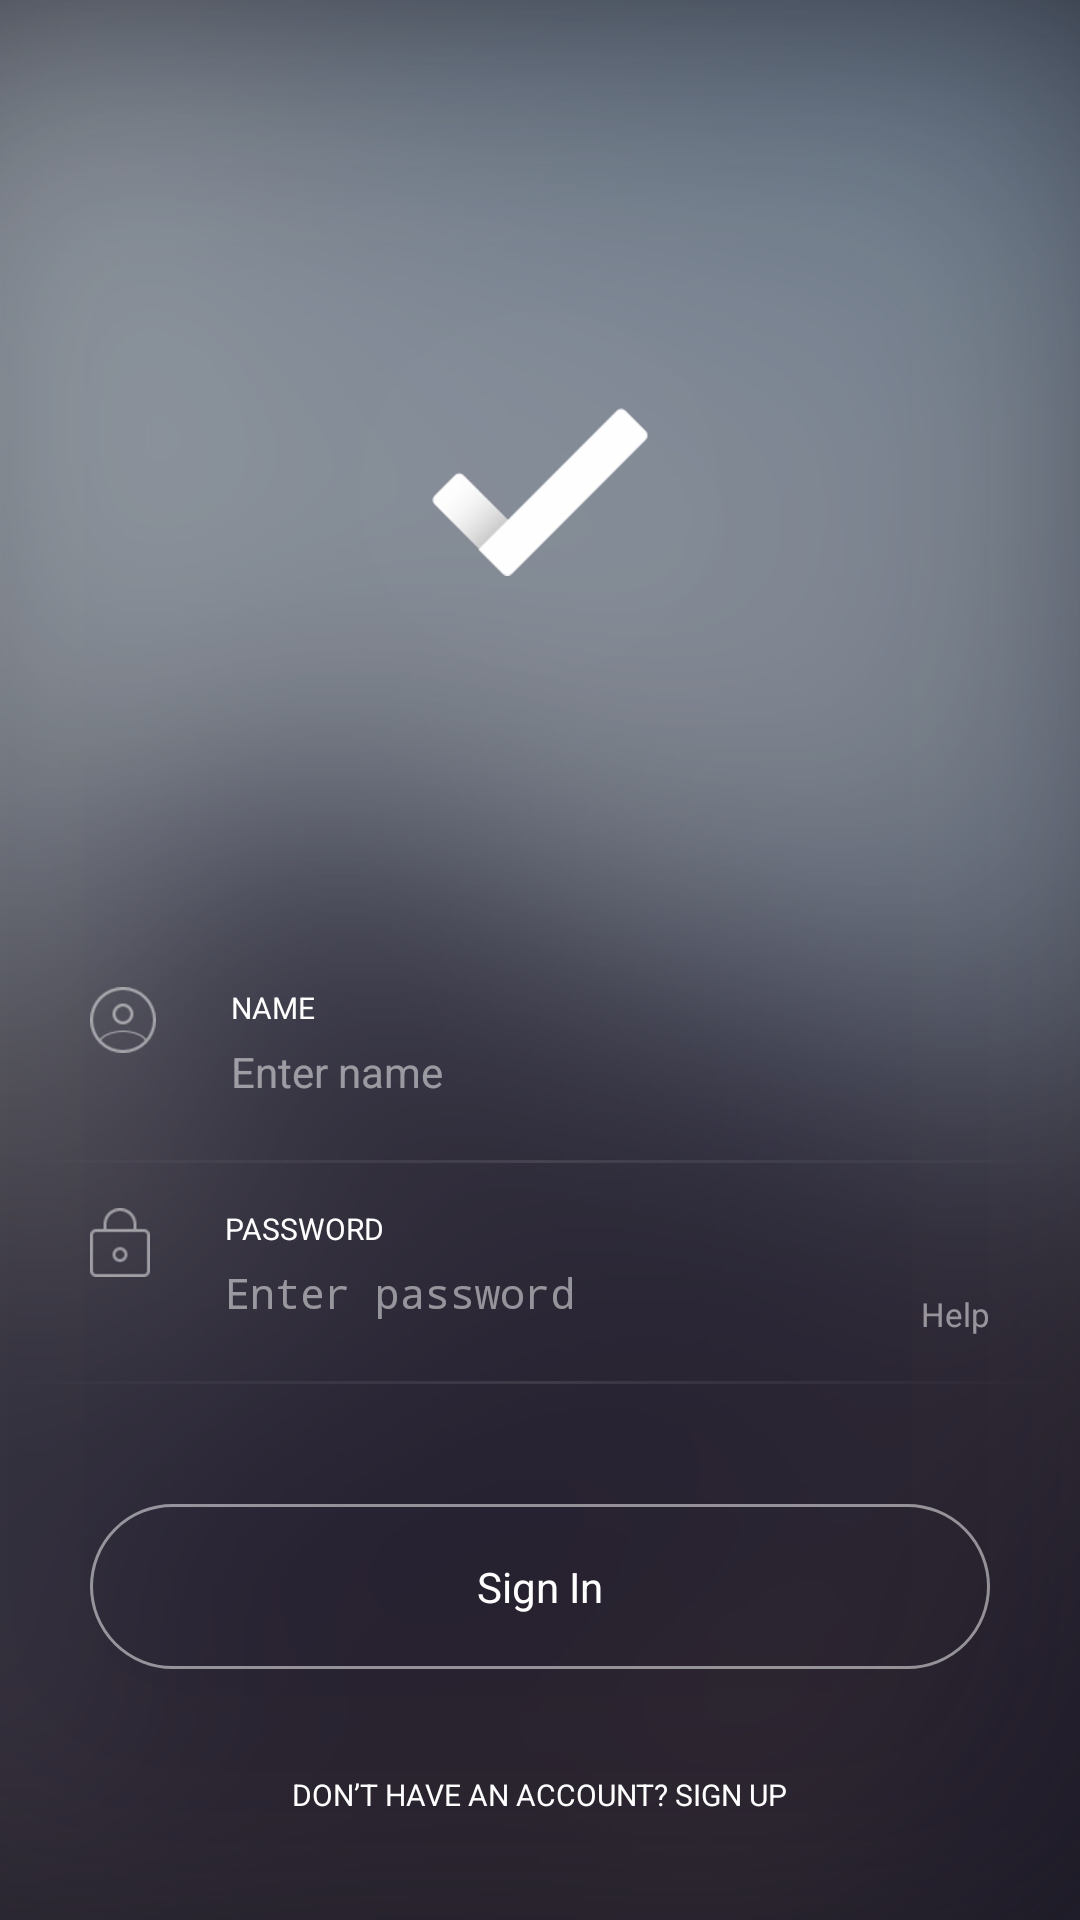

Icon click points for this 1080px x 1920px phone screenshot, format [x,y]:
tick: [540,492]
